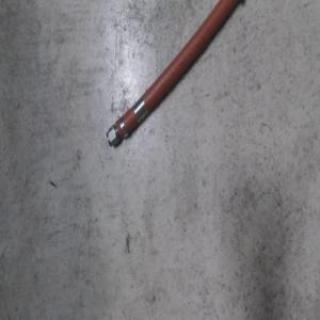Hosetrack_idkeyframe: (102, 0, 240, 148)
